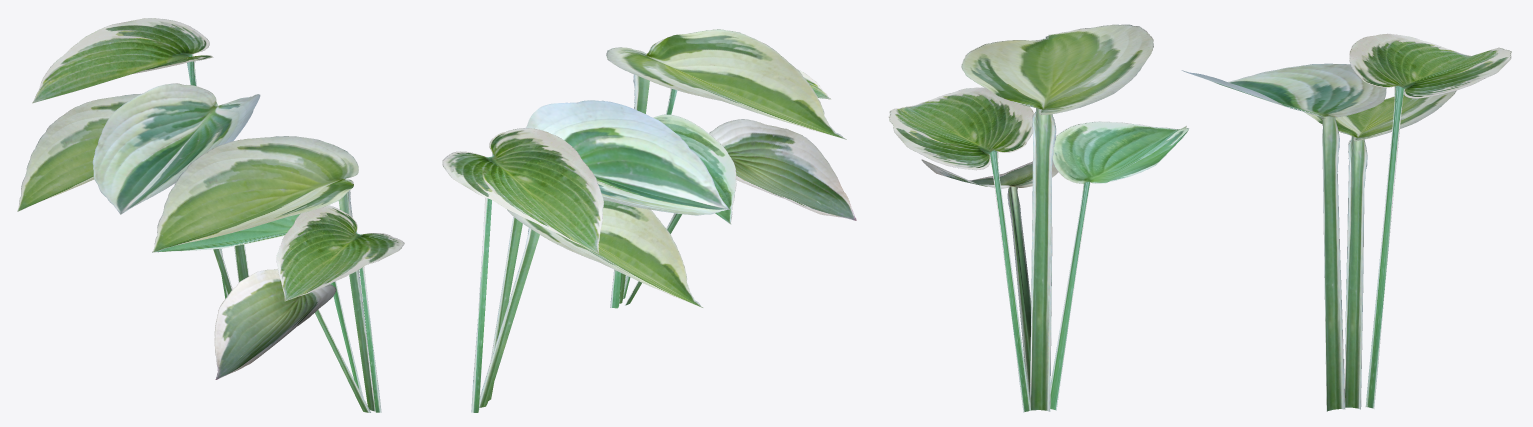
The model's file is plant_small_wg_00_line_01.fbx.
The picture shows the model from 3 angles, left to right: view 1: azimuth 30°, elevation 25°; view 2: azimuth 150°, elevation 25°; view 3: azimuth 270°, elevation 25°; orthographic projection. The views are drawn at different scales.
Visible parts, largest first — view 1: plant_small_wg_00_line_01; view 2: plant_small_wg_00_line_01; view 3: plant_small_wg_00_line_01.
Boxes of the visible parts, box(x1,y1,x2,y2) form: plant_small_wg_00_line_01: box(17, 18, 404, 412); plant_small_wg_00_line_01: box(442, 29, 856, 412); plant_small_wg_00_line_01: box(888, 24, 1511, 412).
Size of the model in its own units: 33.88 by 39.15 by 68.75.
1 material, 1 textured.
